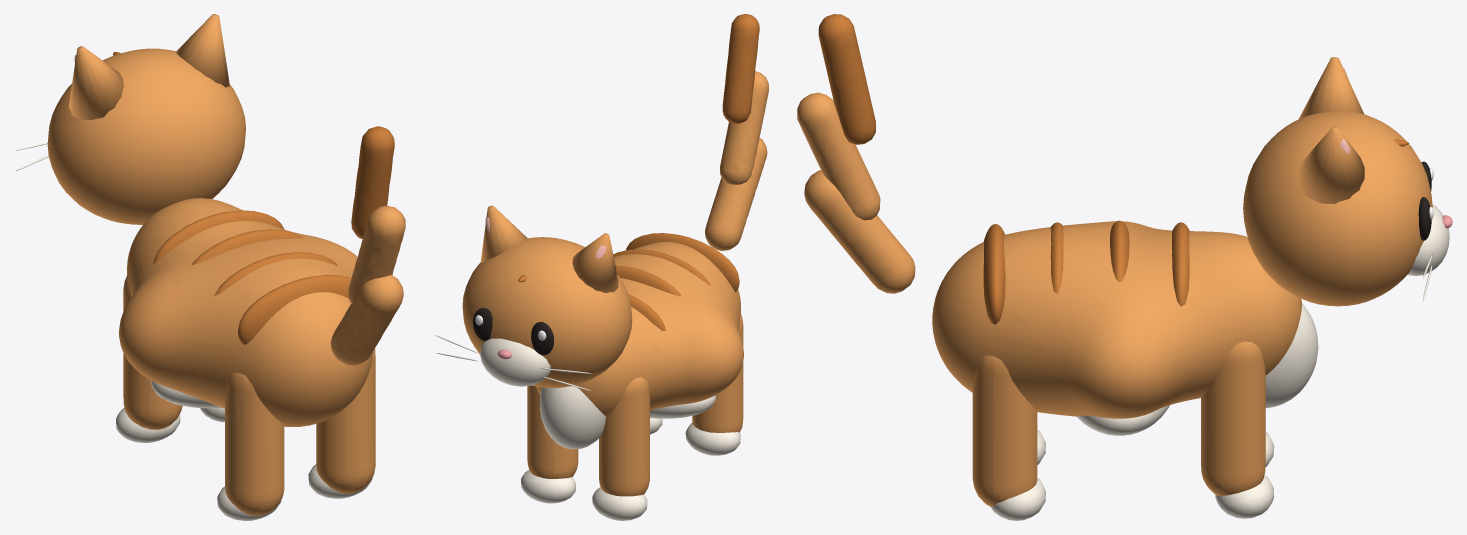
Rendered from cat_toon.glb.
The picture shows the model from 3 angles, left to right: view 1: azimuth 30°, elevation 25°; view 2: azimuth 150°, elevation 25°; view 3: azimuth 270°, elevation 25°; orthographic projection. The views are drawn at different scales.
Parts seen in each view (by area): view 1: body, head, legBR, legBL, tail1, legFR, tail3, tail2; view 2: body, head, legFR, legFL, legBR, tail3, tail1, tail2; view 3: body, head, legFL, legBL, tail1, tail2, tail3.
Part boxes in pixels (x1=…): body: x1=119, y1=198, x2=372, y2=426; head: x1=15, y1=14, x2=245, y2=224; legBR: x1=217, y1=372, x2=284, y2=520; legBL: x1=308, y1=348, x2=375, y2=498; tail1: x1=330, y1=275, x2=403, y2=365; legFR: x1=116, y1=275, x2=182, y2=442; tail3: x1=351, y1=126, x2=394, y2=238; tail2: x1=348, y1=205, x2=405, y2=303; body: x1=536, y1=233, x2=743, y2=449; head: x1=435, y1=205, x2=632, y2=391; legFR: x1=592, y1=377, x2=649, y2=520; legFL: x1=521, y1=385, x2=578, y2=503; legBR: x1=685, y1=314, x2=743, y2=455; tail3: x1=722, y1=14, x2=759, y2=124; tail1: x1=705, y1=138, x2=767, y2=250; tail2: x1=720, y1=71, x2=768, y2=184; body: x1=932, y1=220, x2=1318, y2=435; head: x1=1243, y1=57, x2=1452, y2=306; legFL: x1=1201, y1=341, x2=1273, y2=518; legBL: x1=972, y1=355, x2=1045, y2=520; tail1: x1=804, y1=170, x2=915, y2=293; tail2: x1=797, y1=92, x2=880, y2=220; tail3: x1=818, y1=14, x2=875, y2=144.
Size of the model in its own units: 0.3213 by 0.5523 by 0.6893.
